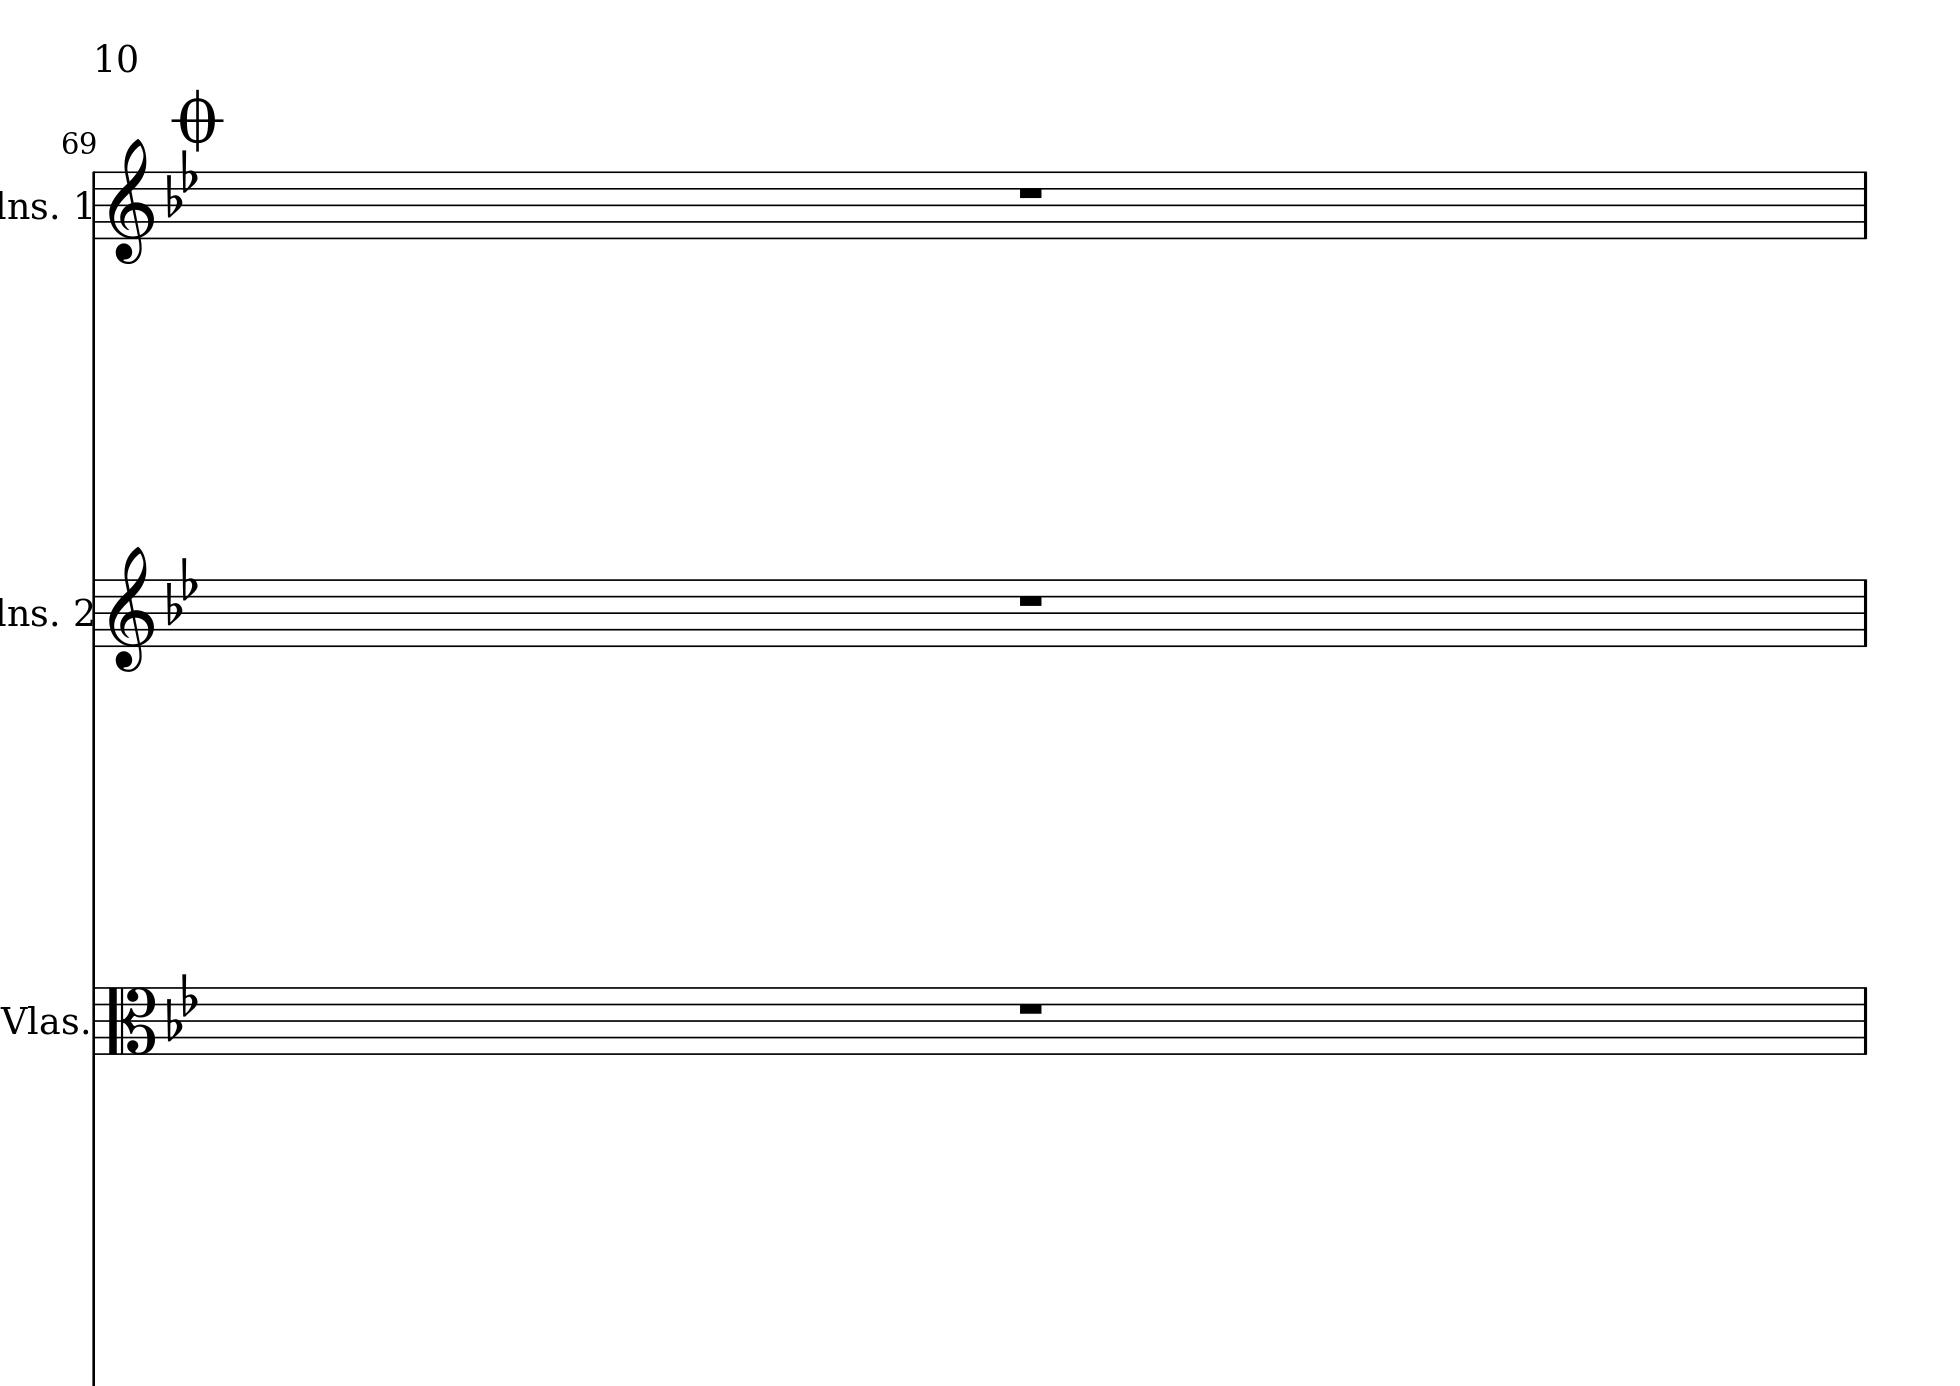0: (115, 40, 138, 73)
1: (94, 40, 112, 75)
6: (60, 127, 79, 157)
9: (79, 127, 97, 157)
B_F: (165, 145, 199, 217), (165, 553, 198, 625), (166, 970, 198, 1041)
Cclef: (105, 985, 157, 1056)
Coda: (169, 85, 222, 151)
Gclef: (106, 136, 154, 265), (106, 544, 154, 673)
Rests1: (1014, 589, 1047, 610), (1015, 997, 1047, 1018), (1014, 183, 1047, 202)
Single_barline: (1857, 987, 1875, 1054), (1857, 171, 1873, 238), (1857, 579, 1873, 646), (87, 985, 102, 1054), (88, 171, 102, 238), (88, 579, 102, 646)
Vla: (1, 997, 58, 1042)
